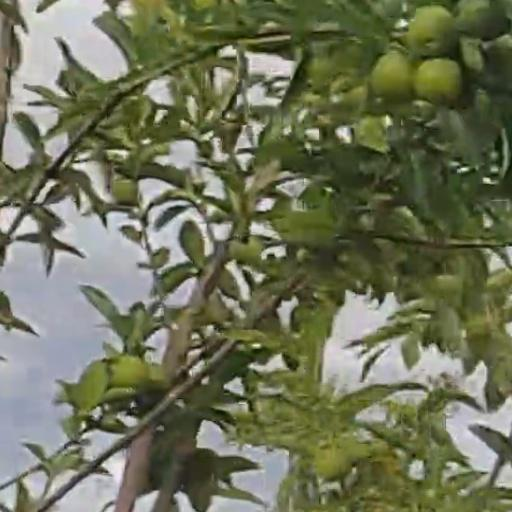acerola_verde: (411, 7, 451, 52), (417, 59, 460, 99), (374, 51, 409, 97), (115, 361, 149, 389), (318, 449, 350, 478)
